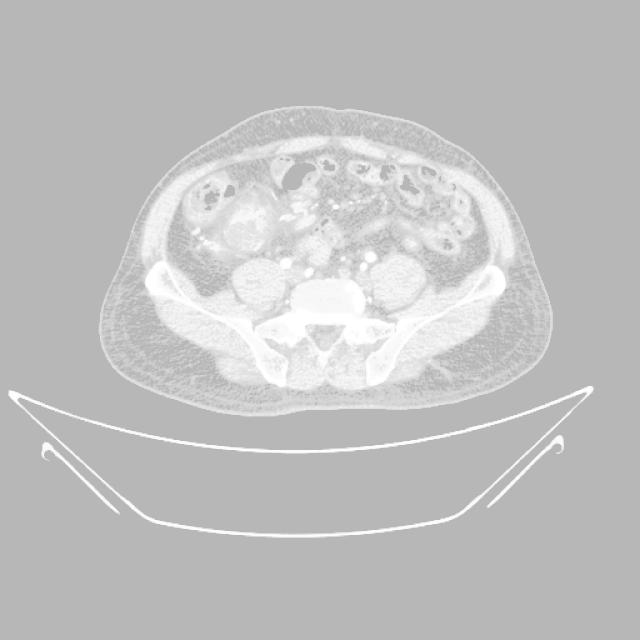TUMOR: (218, 206, 430, 349)
